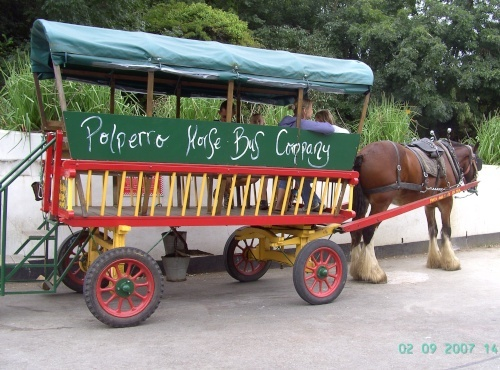horse: (347, 138, 482, 282)
